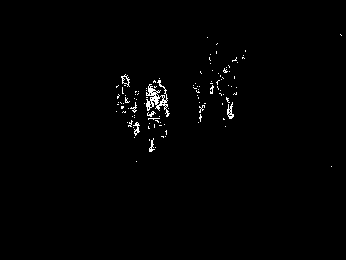person: (145, 76, 170, 154), (214, 62, 238, 124), (117, 73, 140, 136), (193, 65, 216, 125)
